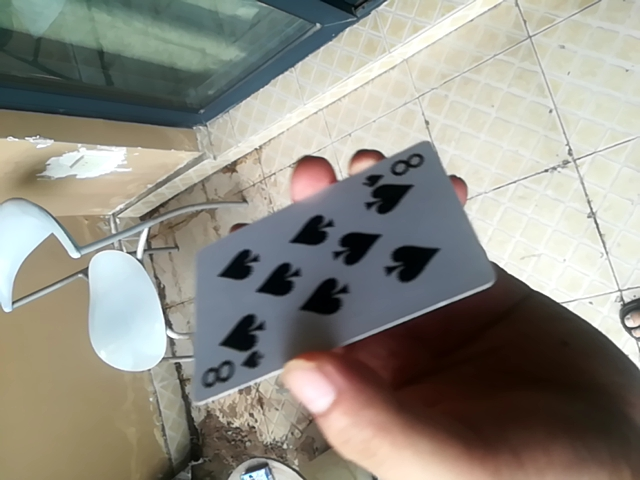ht 8: (185, 136, 501, 407)
